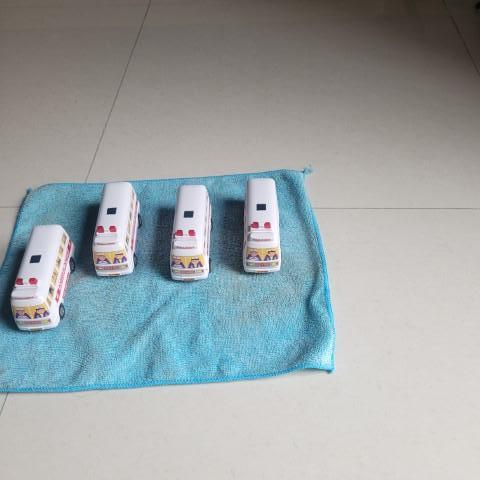ambulance: (9, 225, 79, 331), (91, 179, 144, 280), (240, 176, 285, 276), (169, 181, 212, 284)
